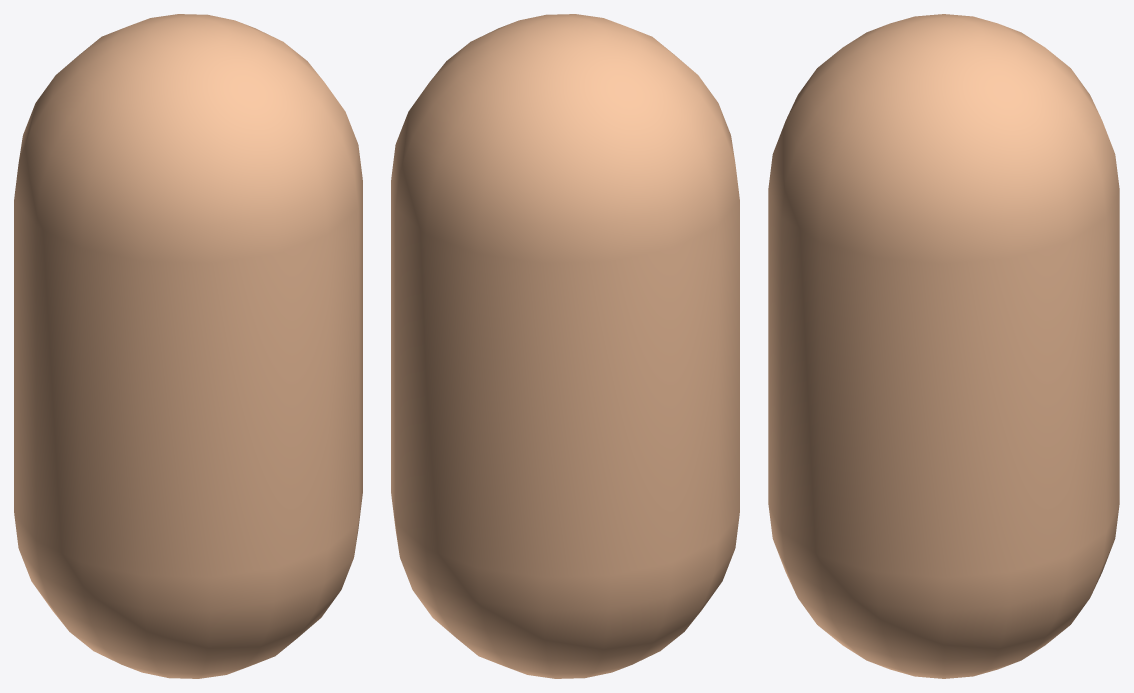
Rendered from char_forearm.glb.
3 renders of one model, left to right at view 1: azimuth 30°, elevation 25°; view 2: azimuth 150°, elevation 25°; view 3: azimuth 270°, elevation 25°, orthographic.
Visible parts, largest first — view 1: char_forearm; view 2: char_forearm; view 3: char_forearm.
Boxes of the visible parts, bbox=[...] form: char_forearm: bbox=[14, 14, 362, 678]; char_forearm: bbox=[391, 14, 739, 678]; char_forearm: bbox=[768, 14, 1119, 678].
Bounding box in the file's own units: 0.132 × 0.262 × 0.132.
